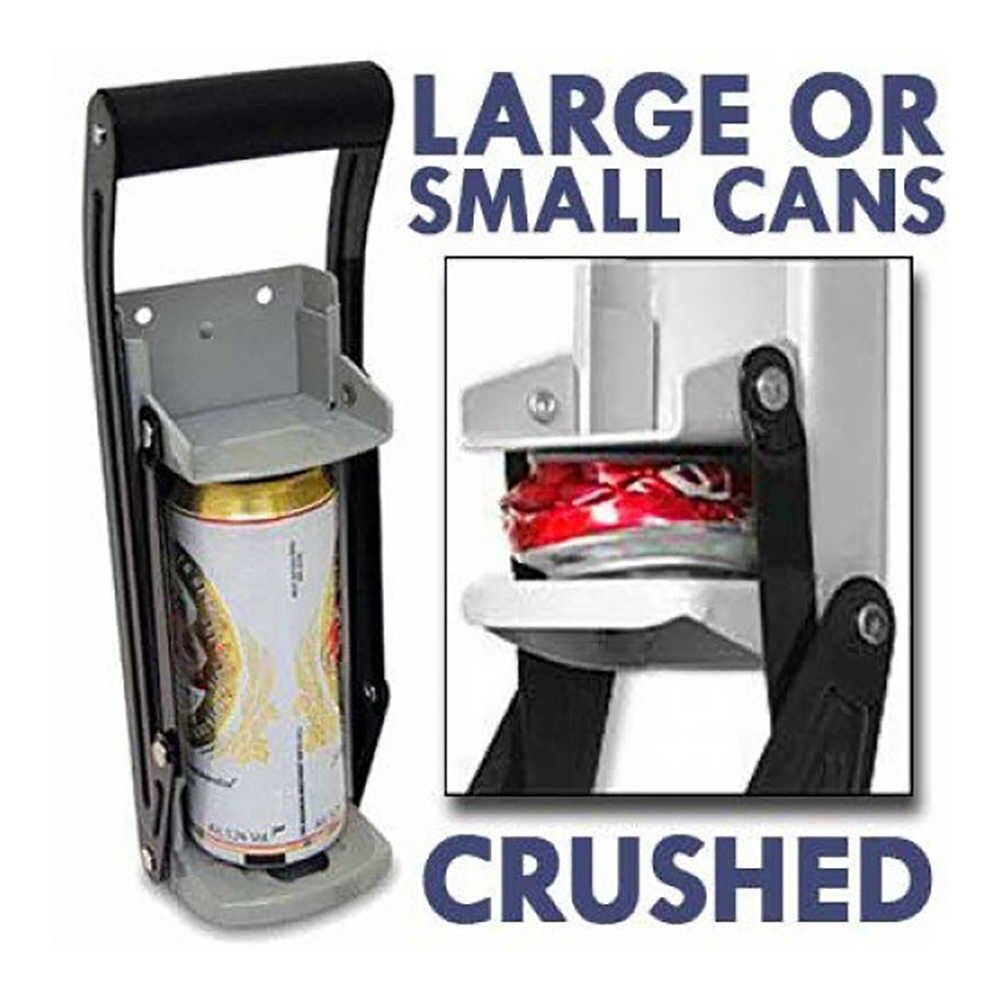can: (157, 462, 350, 871), (496, 446, 764, 579)
